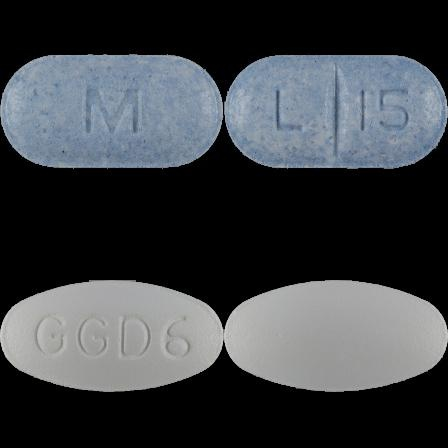54868-5477: (0, 0, 224, 224)
